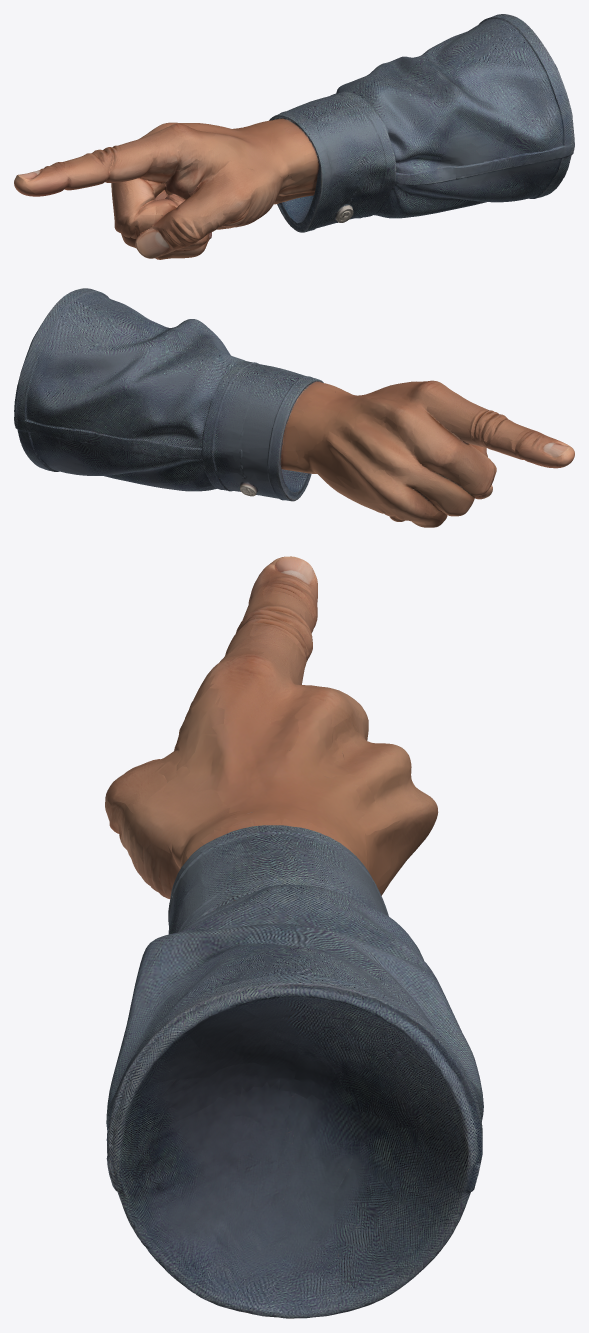
File: hand.glb
The picture shows the model from 3 angles, top to bottom: view 1: azimuth 30°, elevation 25°; view 2: azimuth 150°, elevation 25°; view 3: azimuth 270°, elevation 25°; orthographic projection. The views are drawn at different scales.
Parts seen in each view (by area): view 1: Mesh_0; view 2: Mesh_0; view 3: Mesh_0.
Part boxes in pixels (box(x1,y1,x2,y2)): Mesh_0: box(14, 14, 574, 259); Mesh_0: box(14, 288, 574, 527); Mesh_0: box(105, 556, 483, 1318).
Bounding box in the file's own units: 1.9 × 0.593 × 0.6075.
Materials: 1 (1 with a texture image).
